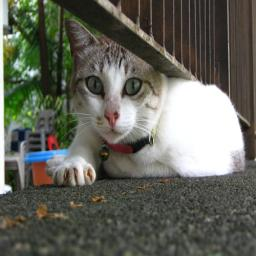catnose: (104, 106, 120, 128)
